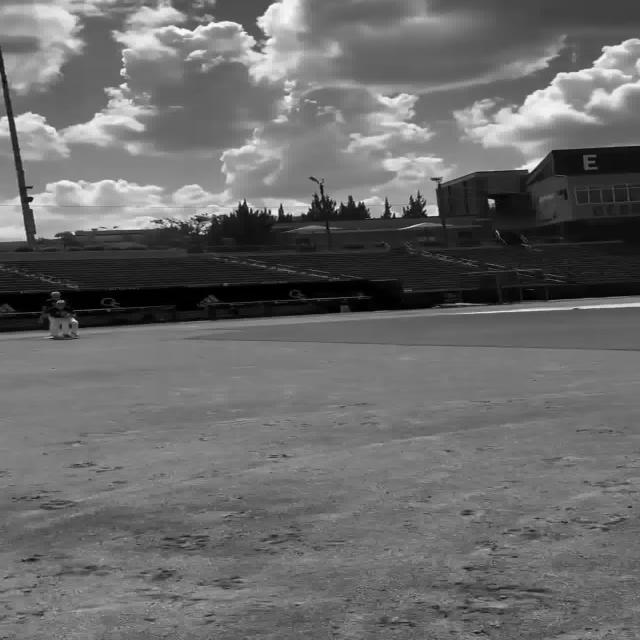baseball: (222, 282, 229, 286)
